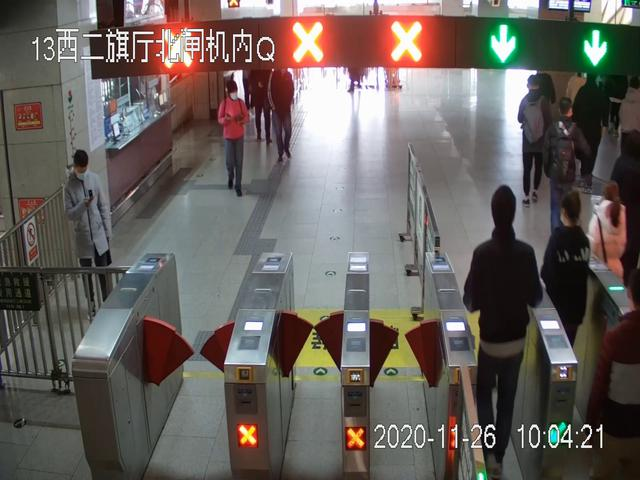person: (463, 185, 543, 480), (542, 193, 591, 385), (65, 150, 113, 314), (545, 98, 587, 232), (591, 181, 628, 321), (518, 73, 547, 210), (218, 80, 250, 198), (266, 66, 296, 164)
